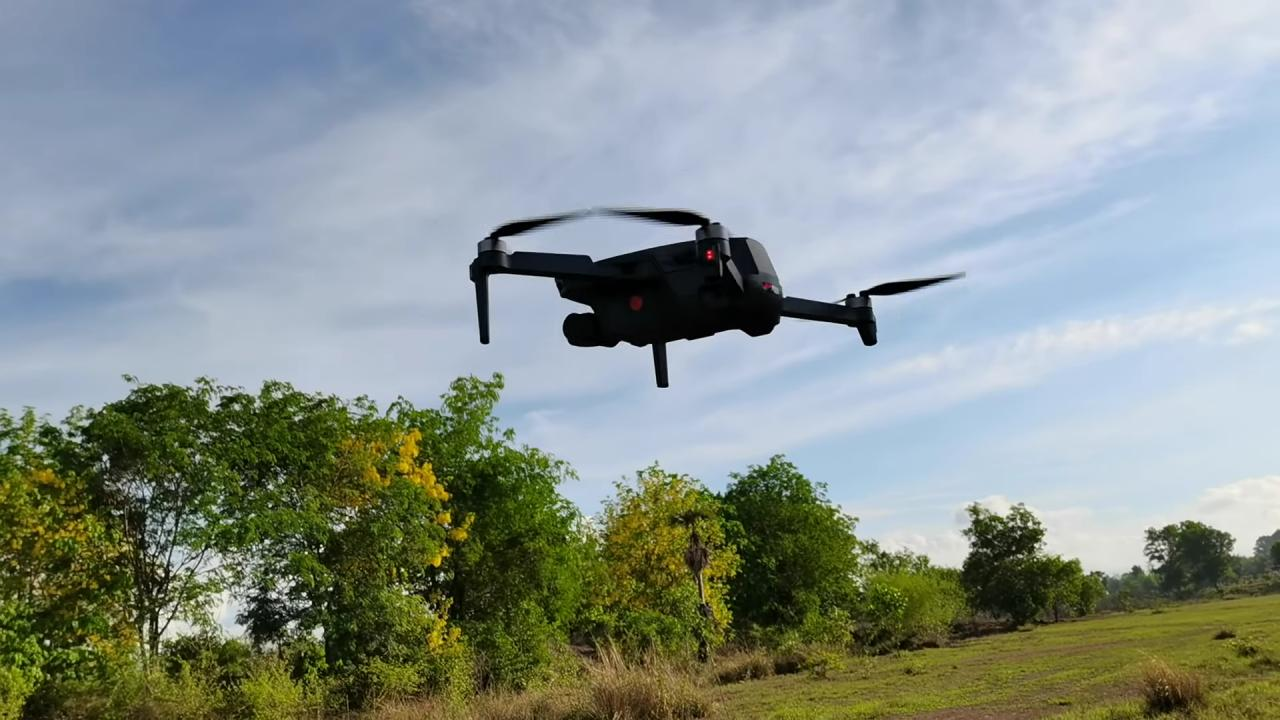Drone: (459, 192, 975, 398)
